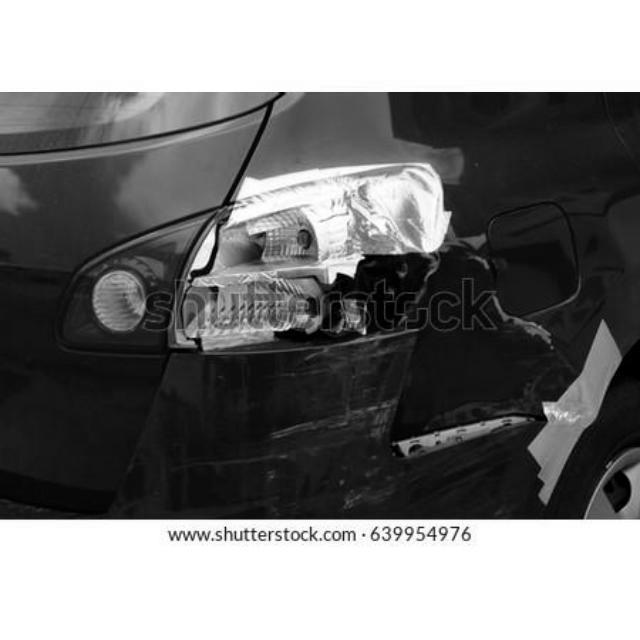Taillight-Damage: (68, 153, 461, 374)
quaterpanel-dent: (393, 92, 636, 520)
